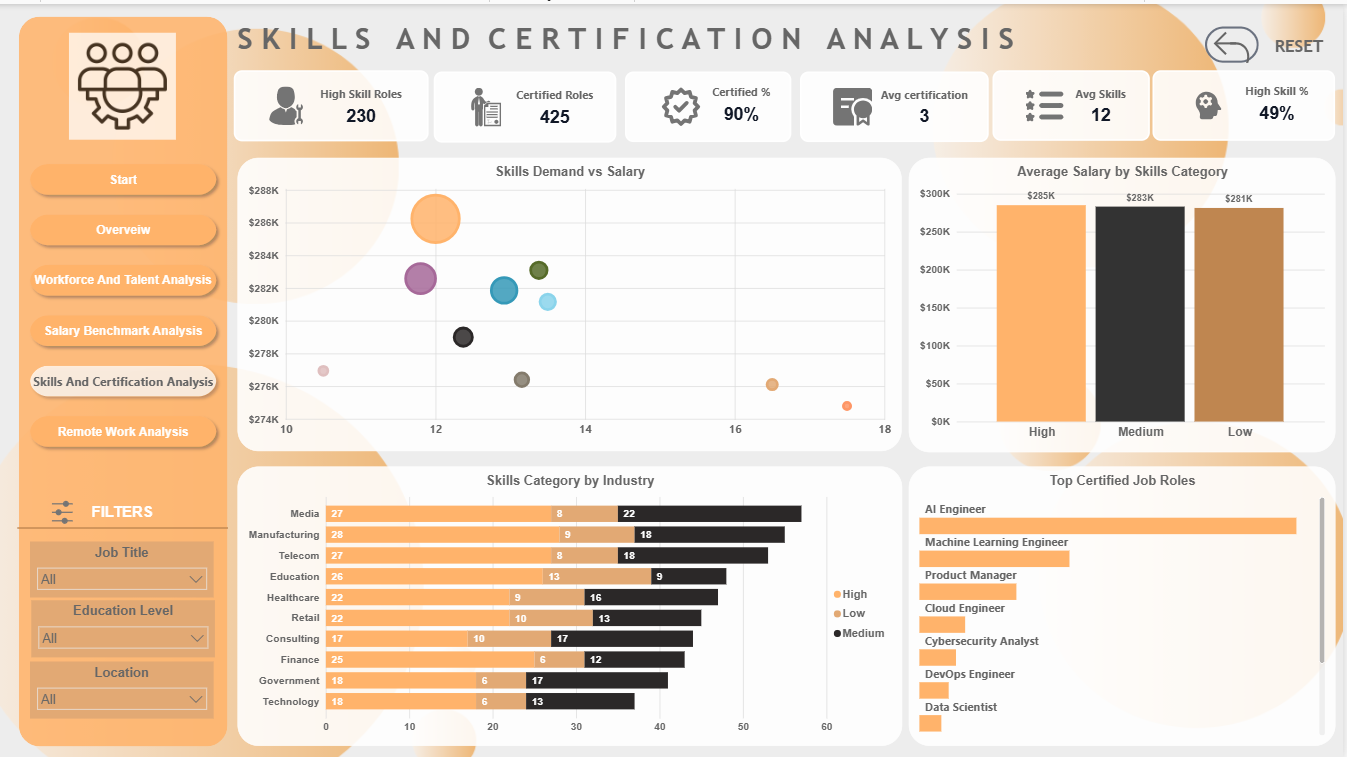

The dashboard page shown, as its layout file describes it:
{"tool":"powerbi","page":{"name":"Skills And Certification Analysis ","canvas":[1920,1080],"ordinal":4},"visuals":[{"type":"barChart","title":"Skills Category by Industry","fields":{"Category":["Dim_Industry.industry"],"Y":["_Measures (2).Total Roles"],"Series":["Fact_Workforce.Skills Category"]},"box":[339.8,661.6,949.2,399.1],"z":0},{"type":"clusteredColumnChart","title":"Average Salary by Skills Category","fields":{"Category":["Fact_Workforce.Skills Category"],"Y":["_Measures (2).Avg Salary"]},"box":[1298,219.3,609.4,420.7],"z":1000},{"type":"scatterChart","title":"Skills Demand vs Salary","fields":{"Category":["Dim_Job.job_title"],"X":["_Measures (2).Avg Skills"],"Y":["_Measures (2).Avg Salary"],"Size":["_Measures (2).Total Roles"]},"box":[339.8,219.3,949,418.9],"z":2000},{"type":"shape","box":[26.8,17.9,298.2,1042.9],"z":3000},{"type":"pageNavigator","box":[34.2,219.3,284,427.9],"z":4000},{"type":"image","box":[86.3,41.3,178,152.8],"z":5000},{"type":"shape","box":[25.3,722.1,300.4,54.3],"z":6000},{"type":"cardVisual","fields":{"Data":["_Measures (2).High Skill Roles"]},"box":[333.9,94.6,278.6,101.8],"z":7000},{"type":"cardVisual","fields":{"Data":["_Measures (2).High Skill Roles %"]},"box":[1646.7,95.3,260.7,100.7],"z":8000},{"type":"cardVisual","fields":{"Data":["_Measures (2).Avg Skills"]},"box":[1418.4,95.3,224.7,100.7],"z":9000},{"type":"cardVisual","fields":{"Data":["_Measures (2).Avg certification"]},"box":[1143.4,97.1,269.7,100.7],"z":10000},{"type":"cardVisual","fields":{"Data":["_Measures (2).Certified %"]},"box":[893.5,97.1,237.3,100.7],"z":11000},{"type":"cardVisual","fields":{"Data":["_Measures (2).Certified Roles"]},"box":[619.6,96.4,260.7,101.8],"z":12000},{"type":"textbox","box":[334.4,19.8,1229.7,98.9],"z":13000},{"type":"slicer","title":"Job Title","fields":{"Values":["Dim_Job.job_title"]},"box":[43.4,767.3,262.4,79.6],"z":14000},{"type":"slicer","title":"Location","fields":{"Values":["Dim_Geo.location"]},"box":[43.4,939.2,262.4,81.4],"z":15000},{"type":"clusteredBarChart","title":"Top Certified Job Roles","fields":{"Category":["Dim_Job.job_title"],"Y":["_Measures (2).label space holder","_Measures (2).Certified Roles"]},"box":[1298,661.6,609.4,399.1],"z":16000},{"type":"slicer","title":"Education Level","fields":{"Values":["Dim_Education.education_level"]},"box":[45.2,852.4,262.4,81.4],"z":17000},{"type":"textbox","box":[83.2,709.4,181,45.2],"z":18000},{"type":"image","box":[56.1,705.8,67,41.6],"z":19000},{"type":"actionButton","title":"Reset","box":[1721.4,32.1,76.8,51.8],"z":20000},{"type":"textbox","box":[1816.1,41.1,94.6,76.8],"z":21000}]}

Visuals, with their boxes in screenshot pixels (x1, y1, x2, y2), scaled from the page's 1920x1080 canvas onto the 1347x757 screenshot:
"Skills Category by Industry" barChart: Rect(238, 464, 904, 743)
"Average Salary by Skills Category" clusteredColumnChart: Rect(911, 154, 1338, 449)
"Skills Demand vs Salary" scatterChart: Rect(238, 154, 904, 447)
shape: Rect(19, 13, 228, 744)
pageNavigator: Rect(24, 154, 223, 454)
image: Rect(61, 29, 185, 136)
shape: Rect(18, 506, 228, 544)
cardVisual - _Measures (2).High Skill Roles: Rect(234, 66, 430, 138)
cardVisual - _Measures (2).High Skill Roles %: Rect(1155, 67, 1338, 137)
cardVisual - _Measures (2).Avg Skills: Rect(995, 67, 1153, 137)
cardVisual - _Measures (2).Avg certification: Rect(802, 68, 991, 139)
cardVisual - _Measures (2).Certified %: Rect(627, 68, 793, 139)
cardVisual - _Measures (2).Certified Roles: Rect(435, 68, 618, 139)
textbox: Rect(235, 14, 1097, 83)
"Job Title" slicer: Rect(30, 538, 215, 594)
"Location" slicer: Rect(30, 658, 215, 715)
"Top Certified Job Roles" clusteredBarChart: Rect(911, 464, 1338, 743)
"Education Level" slicer: Rect(32, 597, 216, 655)
textbox: Rect(58, 497, 185, 529)
image: Rect(39, 495, 86, 524)
"Reset" actionButton: Rect(1208, 22, 1262, 59)
textbox: Rect(1274, 29, 1340, 83)
